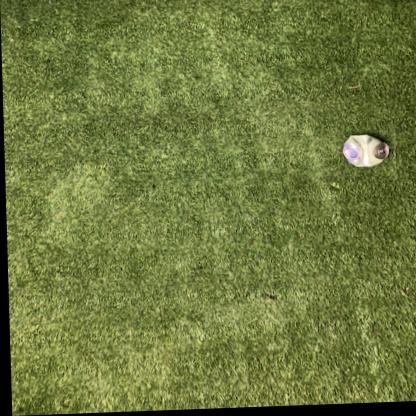trash: (343, 135, 388, 166)
